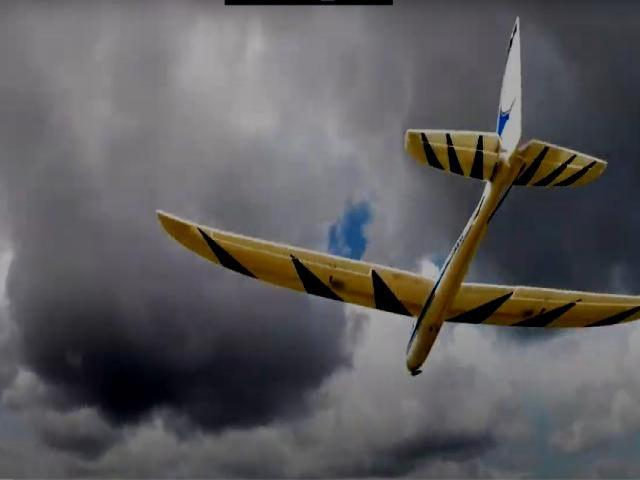iha: (156, 36, 639, 379)
